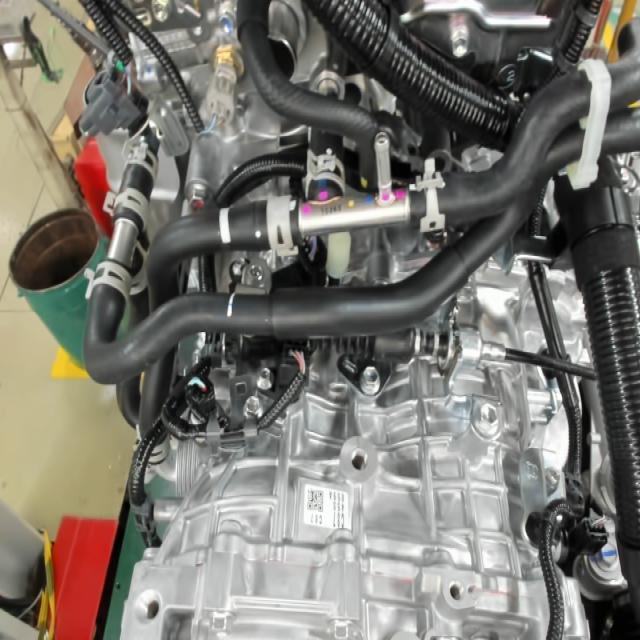Transaxele-C87-A27: (307, 504, 348, 527)
